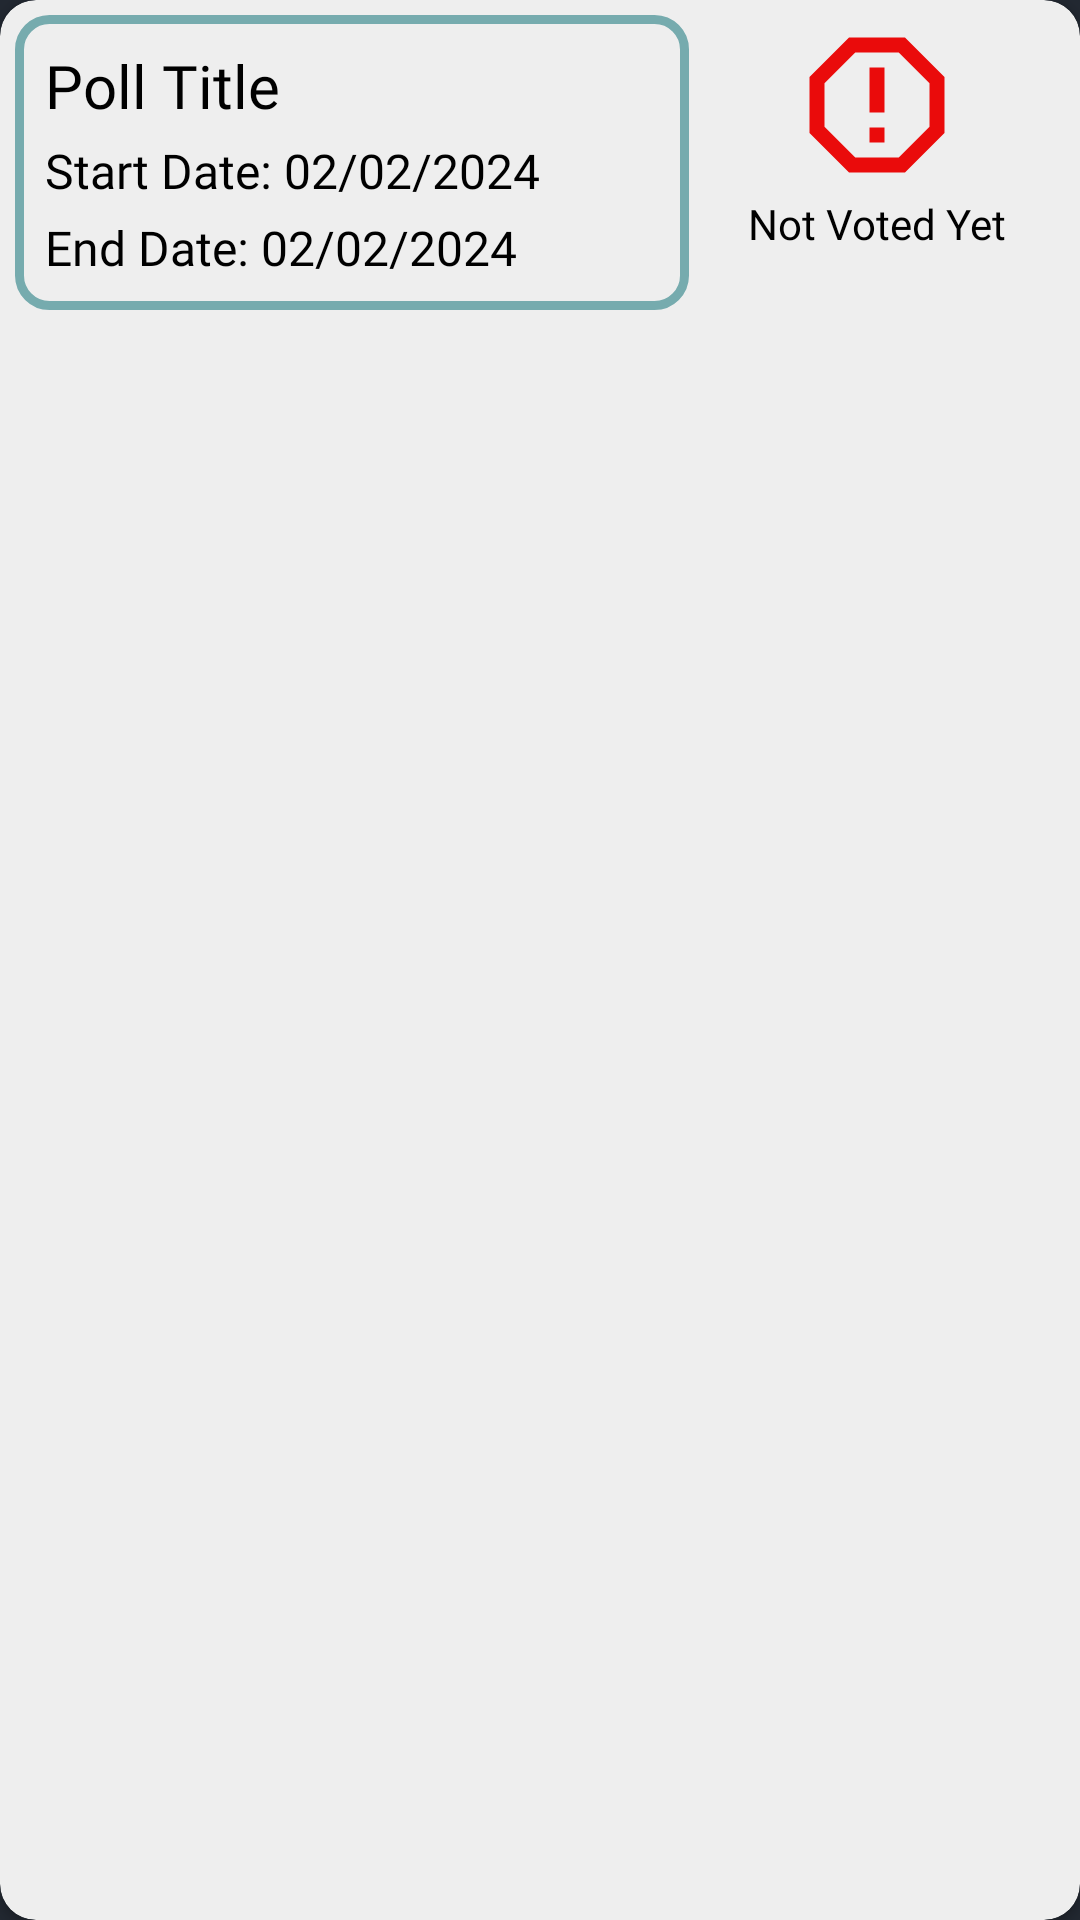

Point at icon controls on the screen. Image size 1080x1920, points as (x=x, y=y).
notify: (x=877, y=105)
